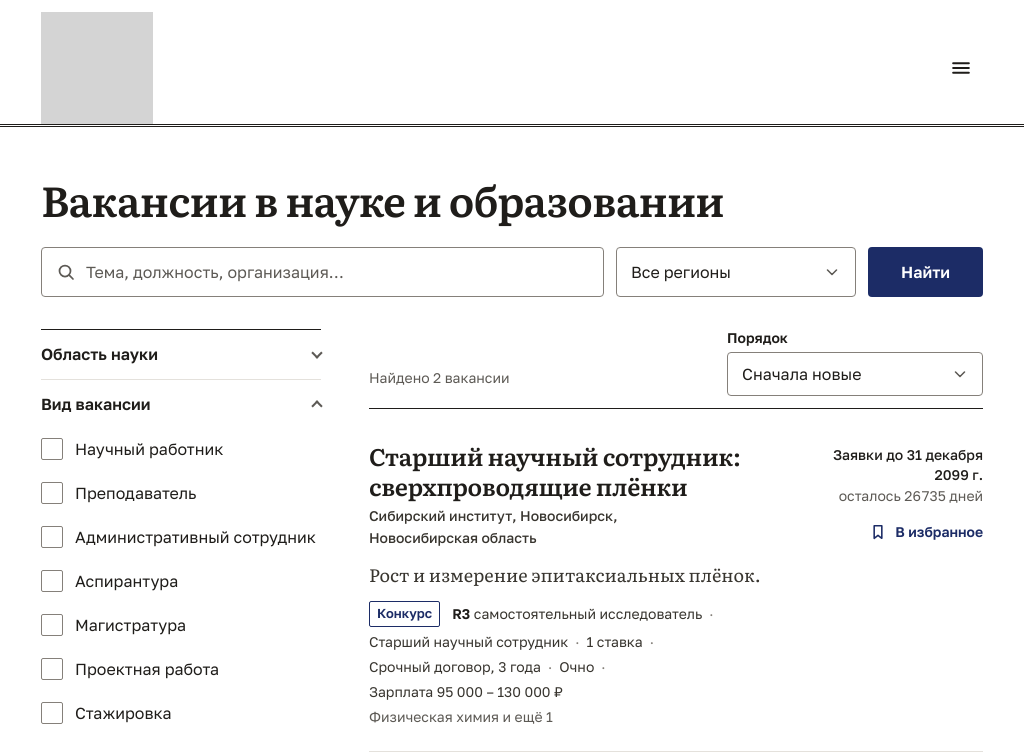
Test: search page › searches by words on «Найти», puts them in the address and sorts by relevance
Check: the link "Старший научный сотрудник: сверхпроводящие плёнки" is shown, box [369,438,740,503]
Type "  органическая химия " into the search field named "Что ищете" at (323,272), box [42,248,603,296]
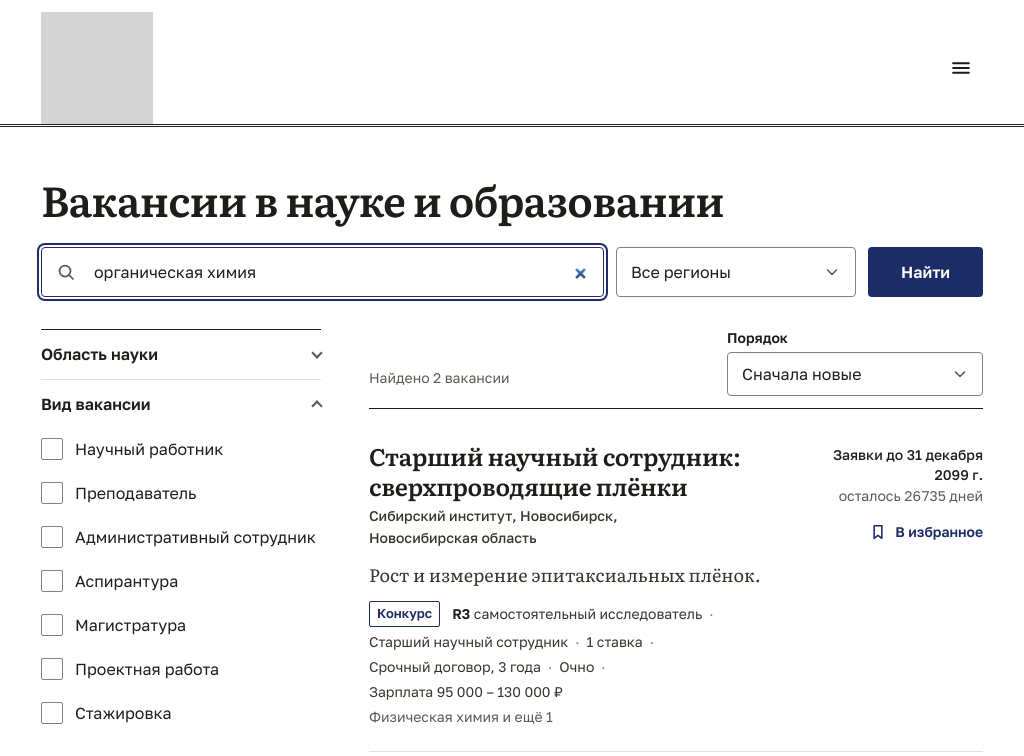
Click the button "Найти" at (926,272), box [868,247,983,297]
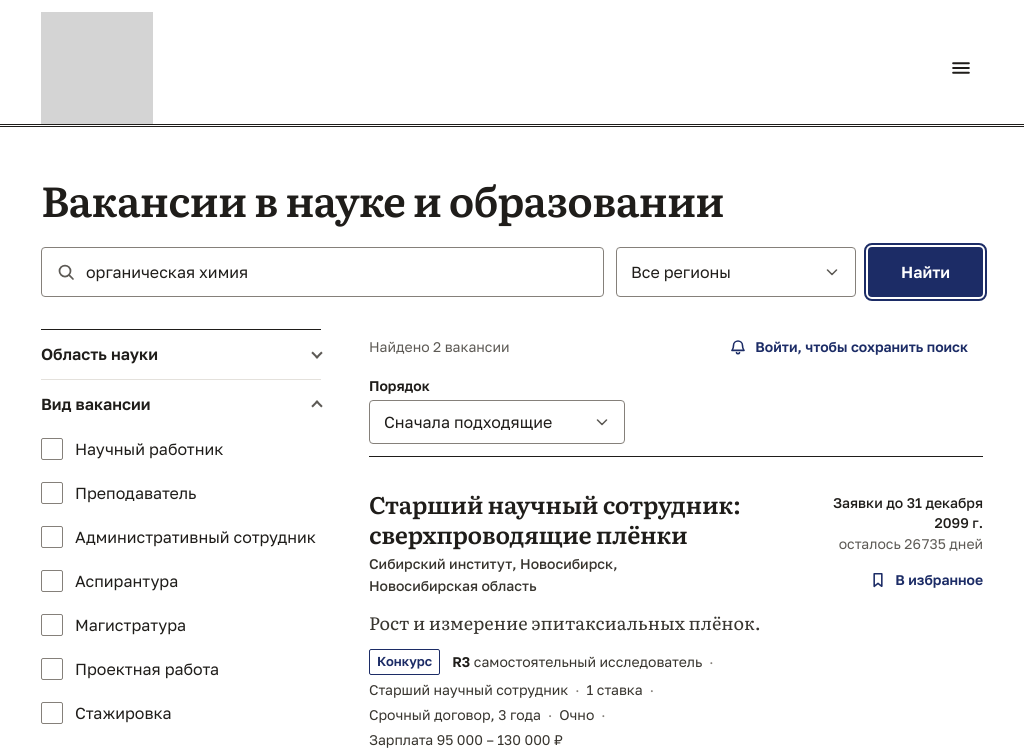
Check: the dropdown labelled "Порядок" shows "Сначала подходящие", box [369,400,625,444]
